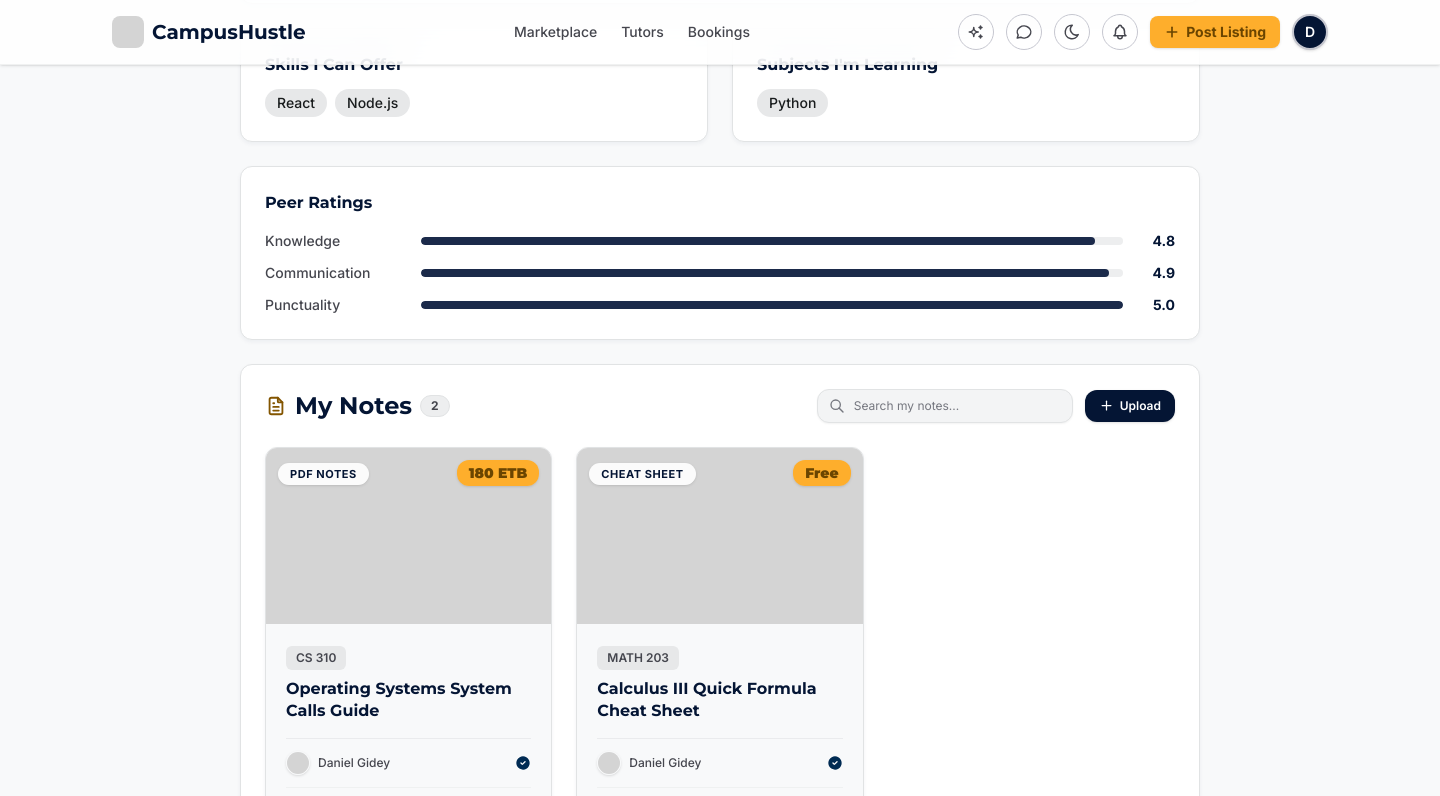
Test: ProfileScreen My Notes Section (View, Edit, Delete) › filters uploaded notes in real-time when typing in search bar
(page scrolled)
Expected: the heading "Operating Systems System Calls Guide" is shown, top-left (286, 679), bottom-right (512, 720)
Expected: the heading "Calculus III Quick Formula Cheat Sheet" is shown, top-left (597, 679), bottom-right (817, 720)
Note: Filter for "Calculus"
In the field labelled "Search my notes...": (945, 406) top-left (817, 389), bottom-right (1073, 423), type "Calculus"
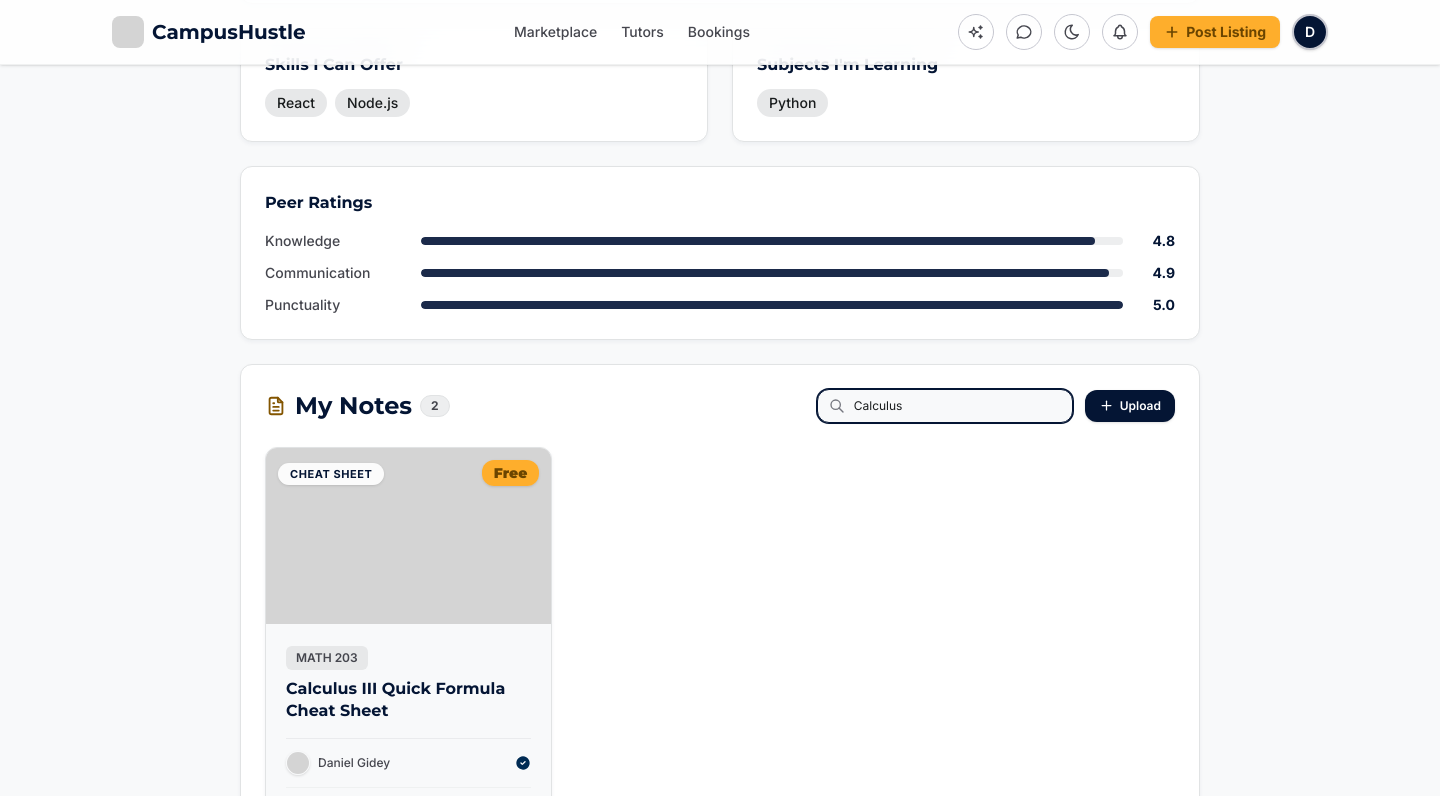
Expected: the heading "Calculus III Quick Formula Cheat Sheet" is shown, top-left (286, 679), bottom-right (505, 720)
Expected: the heading "Operating Systems System Calls Guide" is gone
Note: Filter with no match
Replace the text in the field named "Search my notes" with "NonExistentSubject": (945, 406) top-left (817, 389), bottom-right (1073, 423)
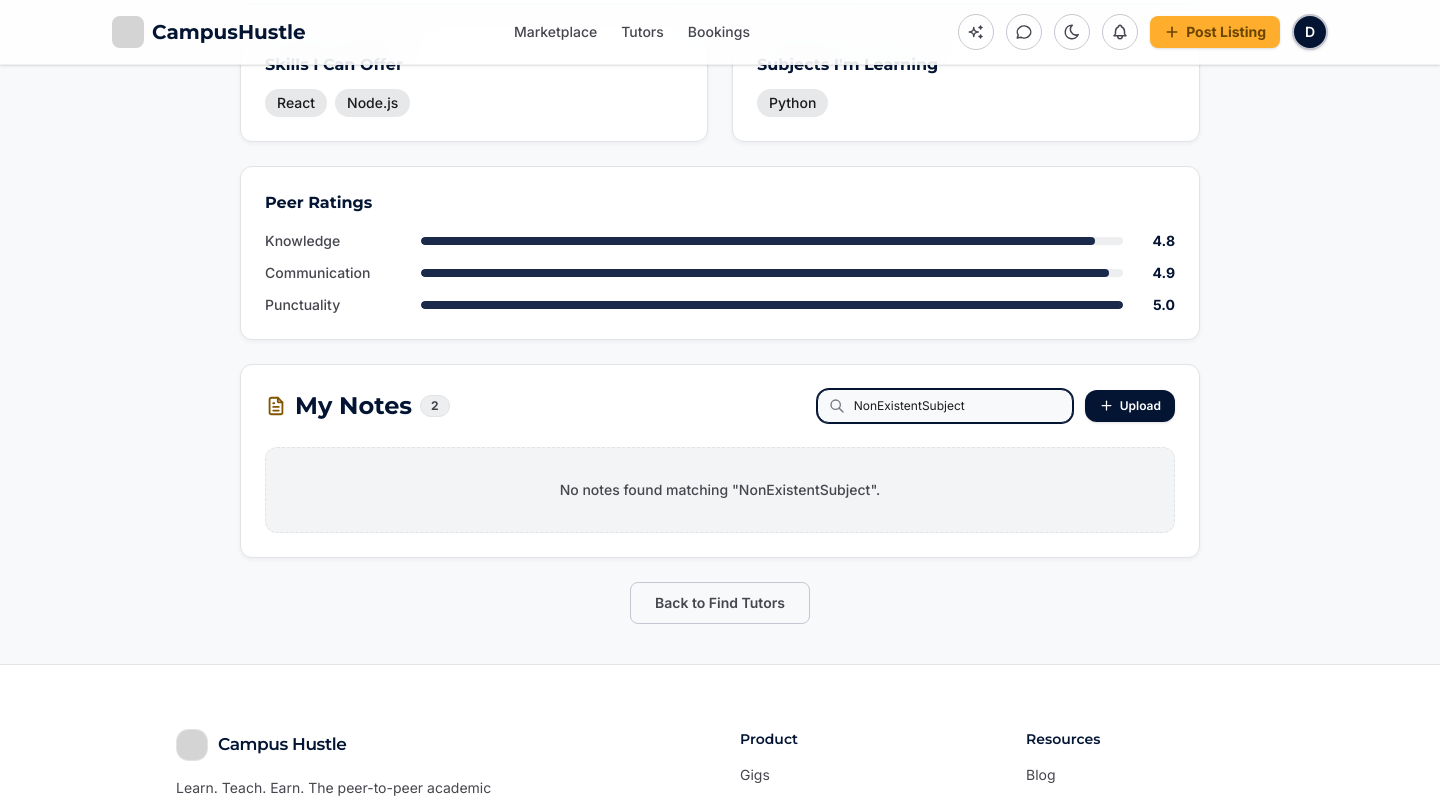
Expected: the text "No notes found matching \"NonExistentSubject\"." is shown, top-left (560, 481), bottom-right (880, 498)
